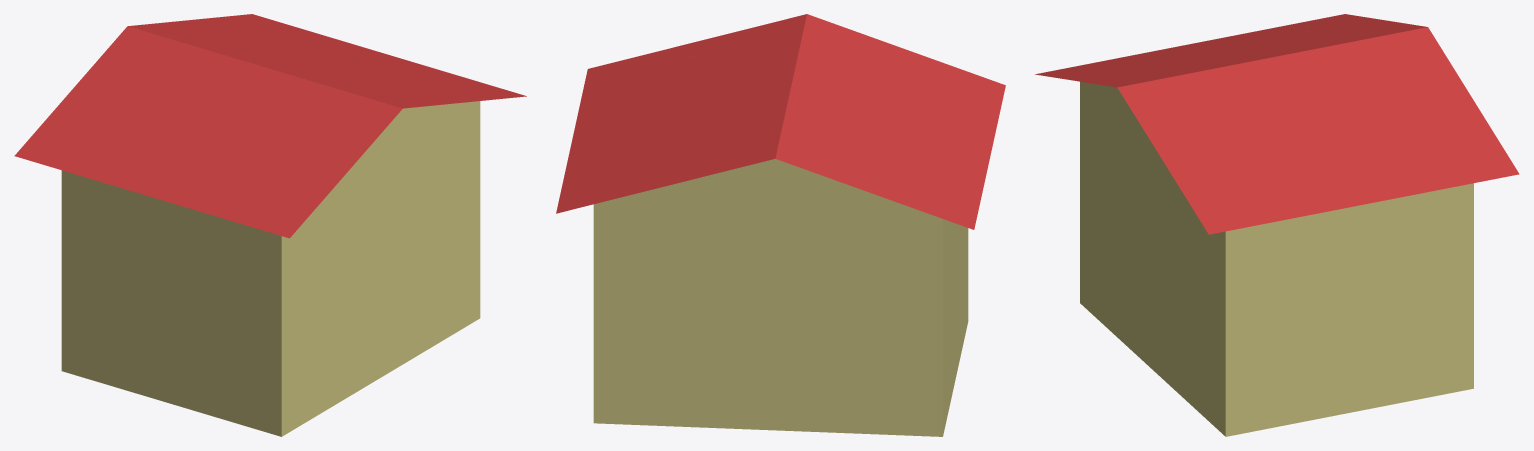
3 renders of one model, left to right at view 1: azimuth 30°, elevation 25°; view 2: azimuth 150°, elevation 25°; view 3: azimuth 270°, elevation 25°, orthographic.
Bounding box in the file's own units: 11.4 × 10.59 × 6.85.
